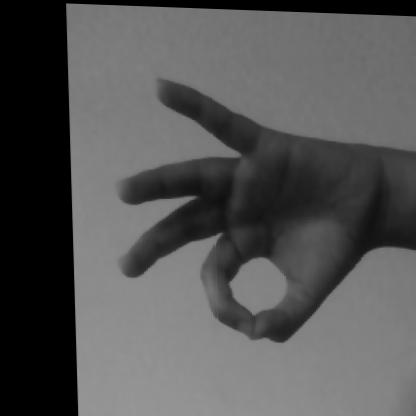ok: (89, 59, 384, 379)
